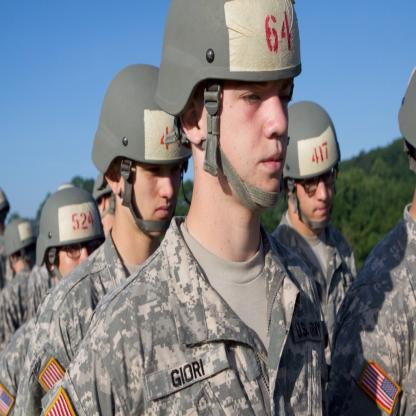Helmet: (153, 0, 305, 219), (90, 61, 188, 239), (285, 97, 339, 231), (39, 192, 99, 280), (396, 62, 416, 173), (1, 216, 36, 278)
